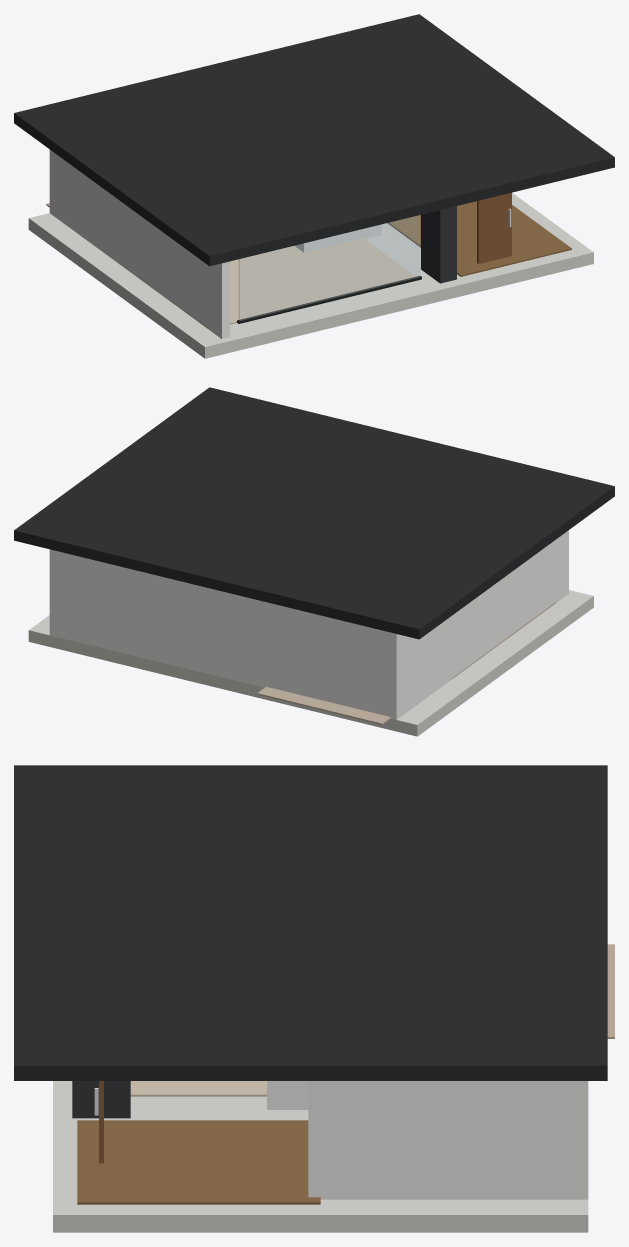
File: modern-villa.glb
3 views of the same model, one above another, from view 1: azimuth 30°, elevation 25°; view 2: azimuth 150°, elevation 25°; view 3: azimuth 270°, elevation 25° (orthographic). The views are drawn at different scales.
Visible parts, largest first — view 1: Roof_Main, Foundation_Base, Wall_Exterior_Main, Glass_Windows, Floor_Living, Deck_Patio, Wall_Exterior_Accent, Door_Entrance, Frame_Windows, Kitchen_Countertop; view 2: Roof_Main, Wall_Exterior_Main (×2), Foundation_Base, Floor_Bedroom; view 3: Roof_Main, Wall_Exterior_Main (×2), Foundation_Base, Deck_Patio, Floor_Living, Wall_Exterior_Accent, Kitchen_Countertop, Floor_Bedroom.
Boxes of the visible parts, box(x1,y1,x2,y2) form: Roof_Main: box(14, 14, 614, 266); Foundation_Base: box(28, 193, 593, 358); Wall_Exterior_Main: box(54, 153, 230, 338); Glass_Windows: box(239, 215, 419, 320); Floor_Living: box(108, 238, 415, 329); Deck_Patio: box(387, 201, 571, 276); Wall_Exterior_Accent: box(421, 206, 456, 283); Door_Entrance: box(477, 192, 511, 263); Frame_Windows: box(237, 276, 421, 323); Kitchen_Countertop: box(294, 224, 381, 252); Roof_Main: box(14, 387, 614, 639); Wall_Exterior_Main (×2): box(49, 530, 568, 719); Foundation_Base: box(28, 590, 593, 736); Floor_Bedroom: box(257, 686, 390, 724); Roof_Main: box(14, 765, 607, 1080); Wall_Exterior_Main (×2): box(308, 1081, 588, 1199); Foundation_Base: box(53, 1081, 588, 1232); Deck_Patio: box(77, 1120, 320, 1204); Floor_Living: box(130, 1081, 266, 1096); Wall_Exterior_Accent: box(72, 1081, 130, 1118); Kitchen_Countertop: box(267, 1081, 308, 1109); Floor_Bedroom: box(607, 944, 614, 1038).
Bounding box in the file's own units: 14.6 × 3.92 × 12.35.
